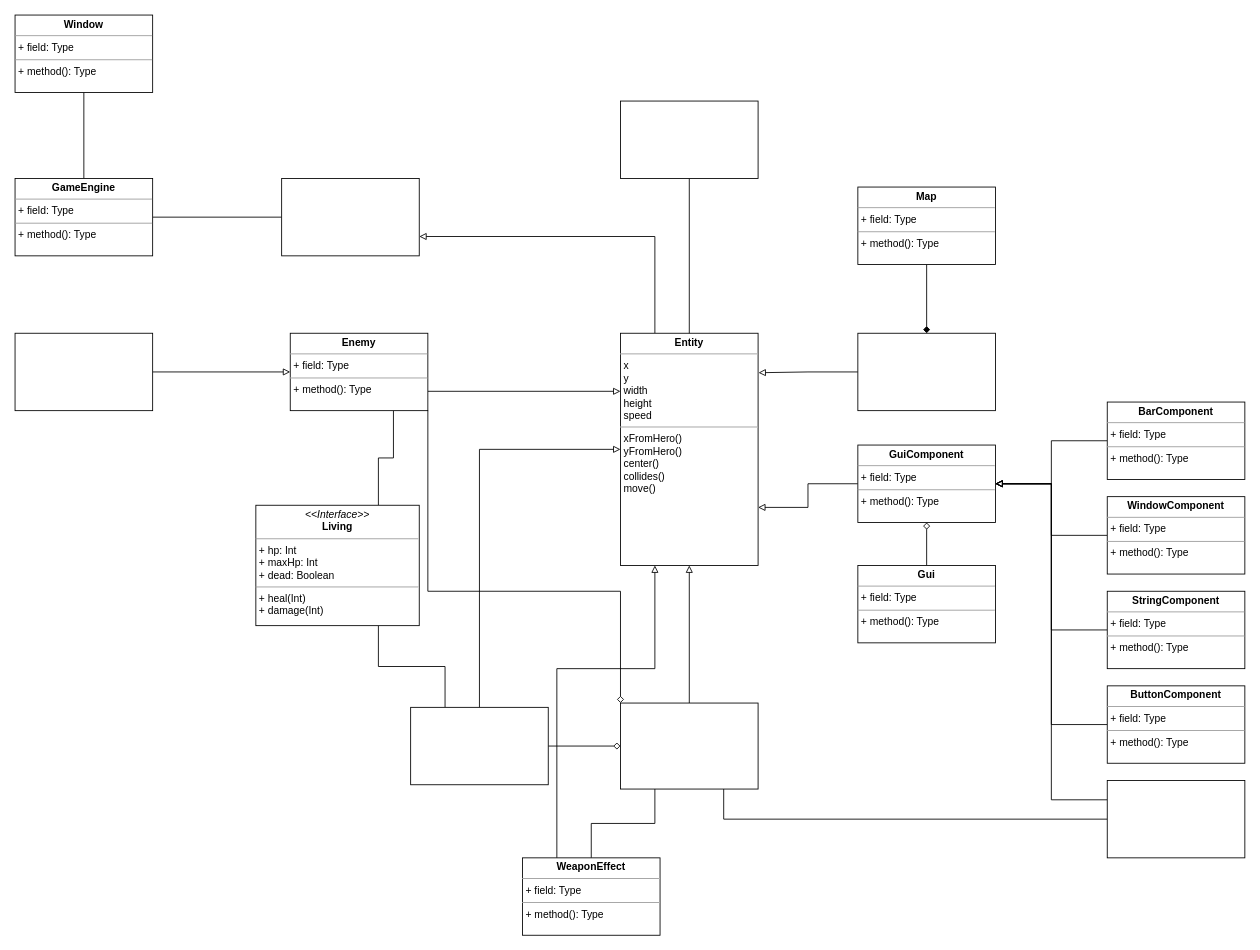
The diagram is 1260 pixels wide and 950 high, and some of its shapes have lost their labels. Each missing label, with the centre of its shape:
Game + field: Type + method(): Type: (x=350, y=217)
Hero + field: Type + method(): Type: (x=479, y=745)
ItemComponent + field: Type + method(): Type: (x=1175, y=819)
Sprite animationState + method(): Type: (x=689, y=139)
Tile + field: Type + method(): Type: (x=926, y=371)
Warrior + field: Type + method(): Type: (x=83, y=371)
Weapon: (x=689, y=745)
